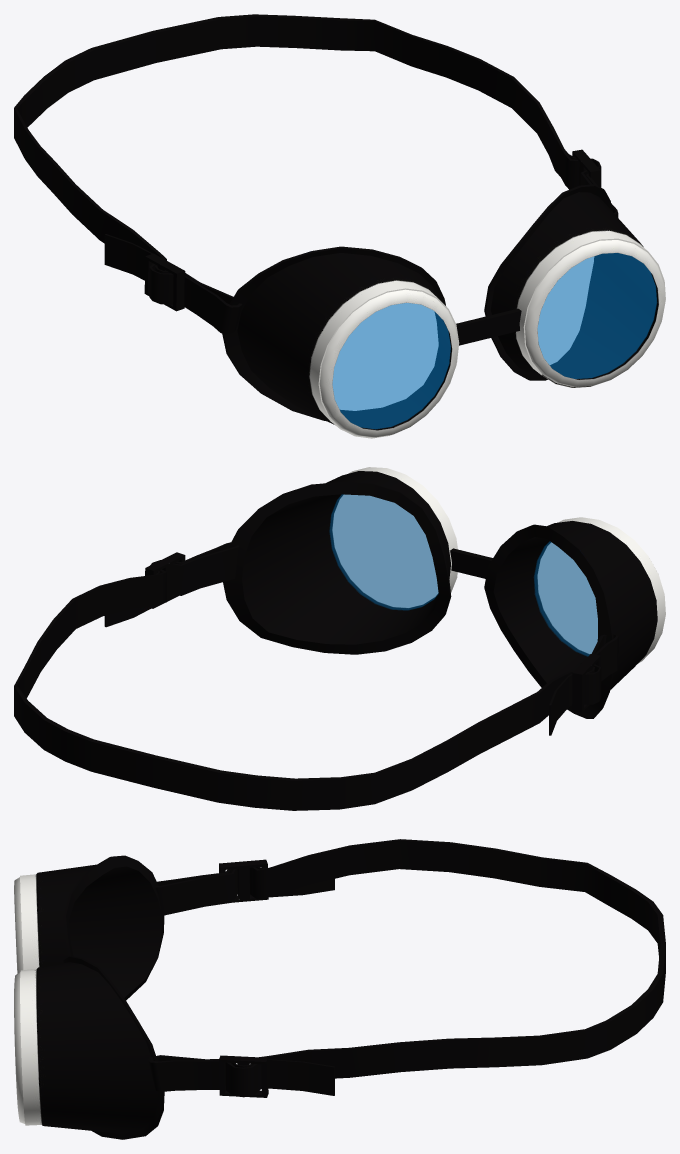
Rendered from Steampunk.glb.
3 renders of one model, top to bottom at view 1: azimuth 30°, elevation 25°; view 2: azimuth 150°, elevation 25°; view 3: azimuth 270°, elevation 25°, orthographic. The views are drawn at different scales.
Visible parts, largest first — view 1: Steampunk; view 2: Steampunk; view 3: Steampunk.
Part boxes in pixels (<box>): Steampunk: <box>14,14,665,438</box>; Steampunk: <box>14,467,665,810</box>; Steampunk: <box>14,839,665,1139</box>.
Size of the model in its own units: 0.8102 by 0.3026 by 1.08.
2 materials, 2 textured.
